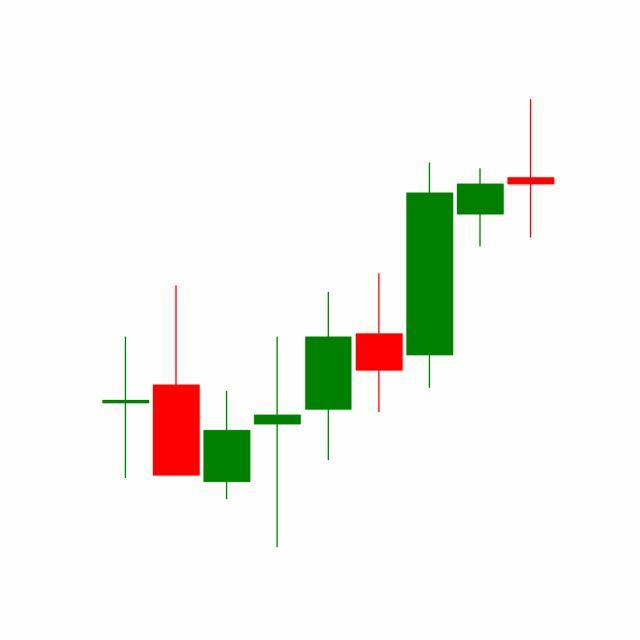Hikkake Pattern: (302, 100, 555, 466)
